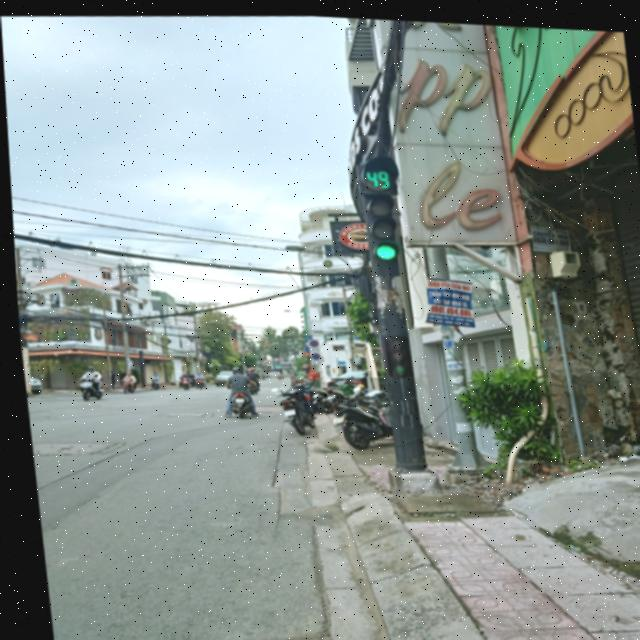Green: (358, 186, 401, 261)
